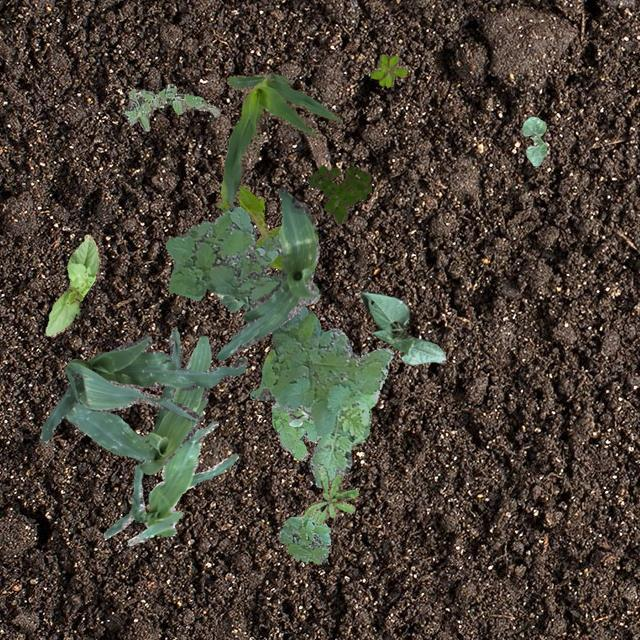crop: (38, 333, 245, 442), (64, 326, 212, 474), (215, 186, 318, 360), (102, 420, 236, 544), (220, 68, 340, 205), (360, 290, 446, 364), (44, 234, 100, 336), (219, 178, 281, 268), (520, 116, 546, 166), (216, 292, 248, 310)
weed: (165, 204, 392, 486), (124, 82, 218, 130), (308, 163, 370, 224), (304, 464, 358, 522), (276, 508, 330, 562), (270, 410, 316, 460), (368, 54, 406, 86), (216, 196, 264, 218), (270, 402, 312, 426)
